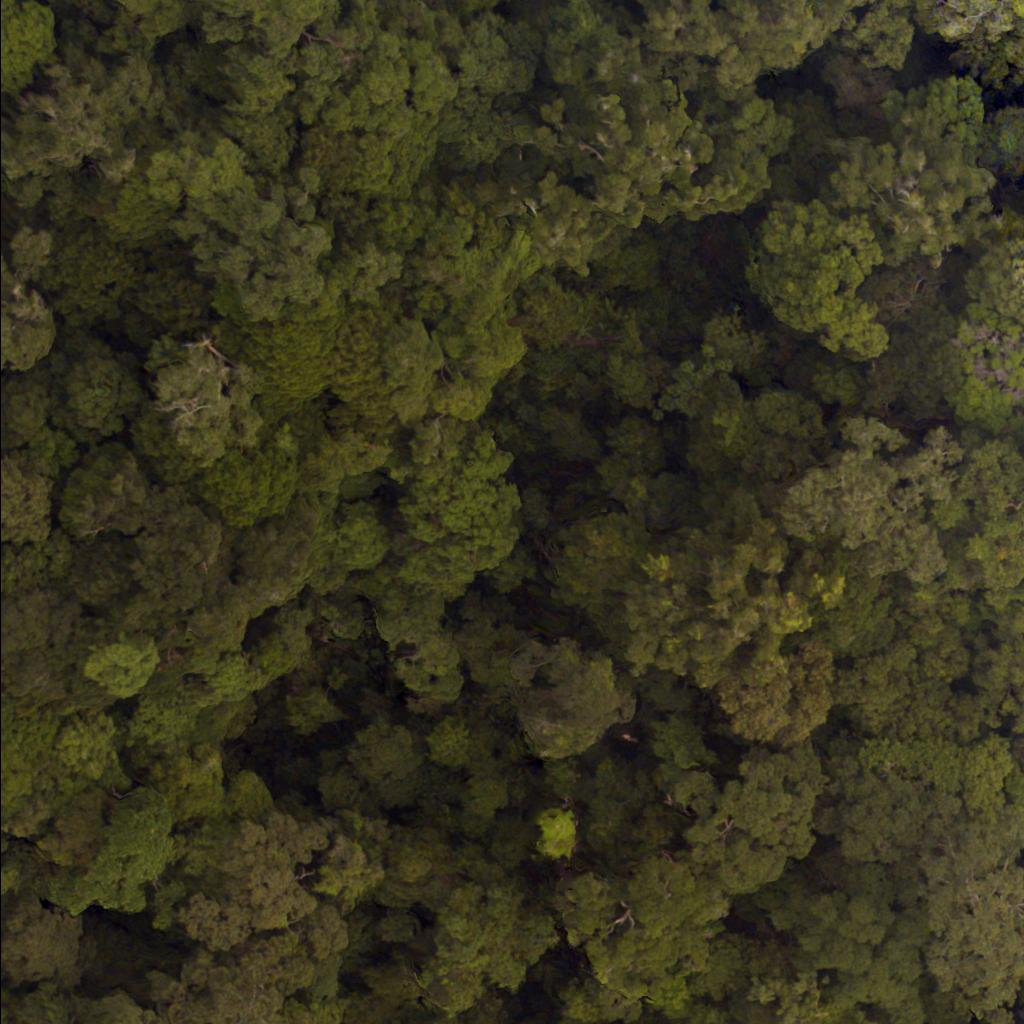crown: (64, 465, 315, 662), (636, 536, 850, 703), (147, 772, 331, 948), (784, 412, 968, 587), (556, 848, 730, 1016), (826, 131, 1020, 265), (751, 195, 902, 364), (903, 439, 1023, 641), (149, 904, 350, 1023), (0, 45, 152, 202), (618, 0, 849, 103), (770, 870, 924, 1023), (915, 811, 1023, 1023), (324, 36, 462, 194), (189, 170, 333, 316), (396, 432, 524, 591), (130, 331, 262, 483), (819, 730, 971, 861), (846, 623, 1002, 750), (691, 750, 823, 893), (41, 785, 171, 913), (506, 640, 634, 761), (711, 647, 835, 745), (330, 317, 437, 426), (140, 132, 252, 236), (44, 334, 138, 446), (38, 226, 138, 330), (945, 306, 1023, 432), (915, 0, 1023, 90), (236, 316, 337, 412), (116, 241, 210, 343), (802, 558, 902, 652), (0, 590, 87, 692), (191, 446, 296, 525), (553, 507, 649, 592), (0, 694, 58, 821), (122, 679, 225, 746), (207, 0, 334, 52), (452, 18, 546, 88), (0, 258, 58, 371), (148, 742, 224, 825), (0, 915, 90, 984), (964, 232, 1023, 328), (0, 0, 56, 92), (39, 785, 104, 864), (0, 456, 55, 549), (975, 640, 1023, 736), (85, 638, 158, 697), (560, 975, 642, 1023), (317, 835, 373, 903), (54, 715, 119, 773), (114, 0, 204, 41), (300, 126, 360, 187), (0, 370, 47, 442), (527, 808, 582, 864), (7, 229, 53, 287), (208, 659, 271, 700), (69, 998, 163, 1023), (426, 719, 471, 769), (30, 431, 80, 475), (505, 986, 561, 1023), (399, 1008, 501, 1023), (1009, 733, 1023, 773), (0, 989, 16, 1023), (445, 0, 504, 9), (688, 1012, 735, 1023), (0, 551, 4, 588), (1020, 801, 1023, 816)
